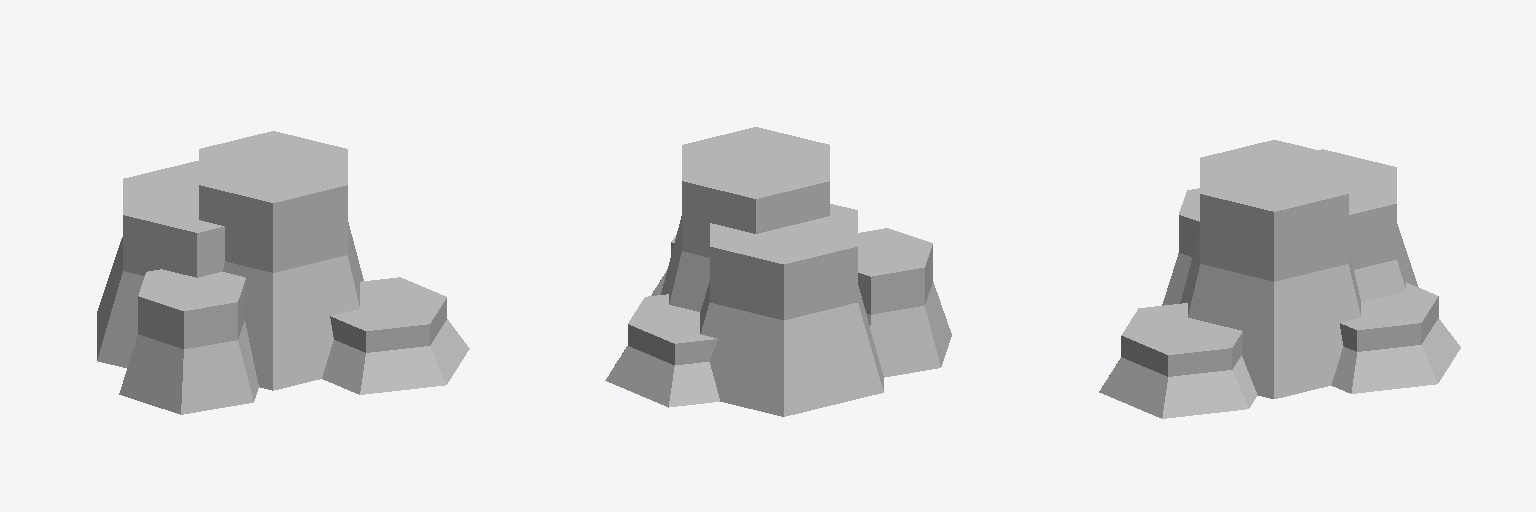
Rendered from rock_largeB.obj.
3 renders of one model, left to right at view 1: azimuth 30°, elevation 25°; view 2: azimuth 150°, elevation 25°; view 3: azimuth 270°, elevation 25°, orthographic.
Visible parts, largest first — view 1: rock_largeB; view 2: rock_largeB; view 3: rock_largeB.
Part boxes in pixels (bbox=[...]): rock_largeB: bbox=[97, 131, 469, 414]; rock_largeB: bbox=[605, 127, 951, 416]; rock_largeB: bbox=[1099, 140, 1460, 418].
Bounding box in the file's own units: 0.9278 × 0.5 × 0.9393.